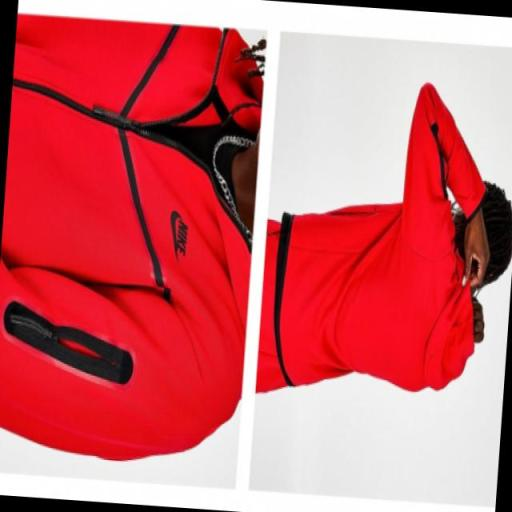Nike: (164, 208, 179, 262), (174, 216, 188, 254)
